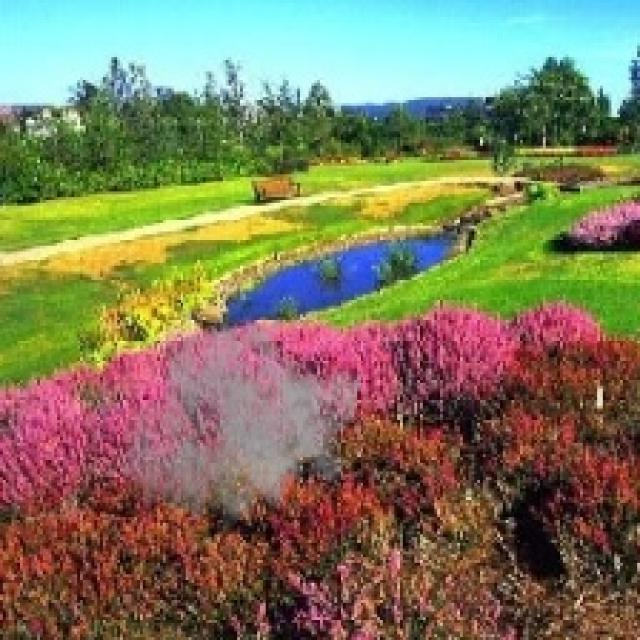Smoke: (117, 308, 363, 546)
